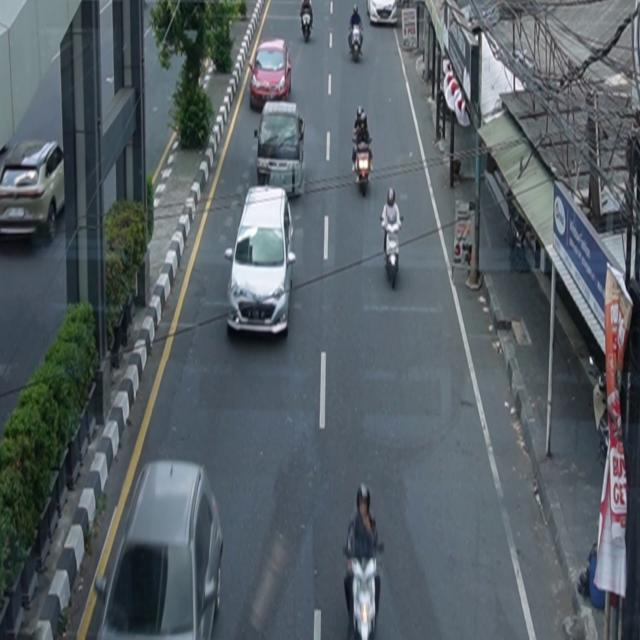car: (93, 459, 224, 640), (225, 185, 297, 338), (1, 137, 66, 243), (255, 101, 306, 199), (249, 39, 293, 112), (367, 1, 398, 26)
